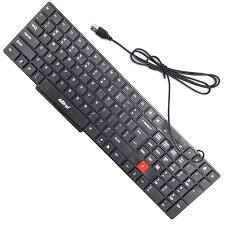keyboard: (2, 0, 220, 219)
